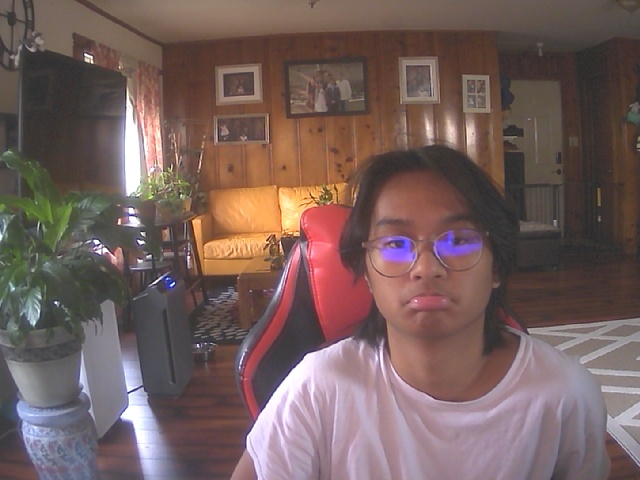sad: (354, 149, 507, 348)
